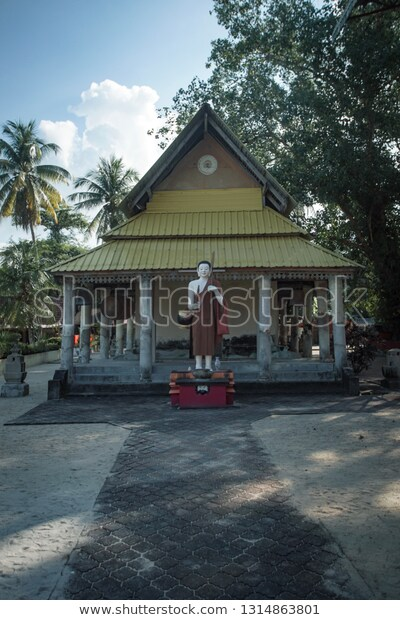Buddhist Temple: (82, 84, 335, 391)
